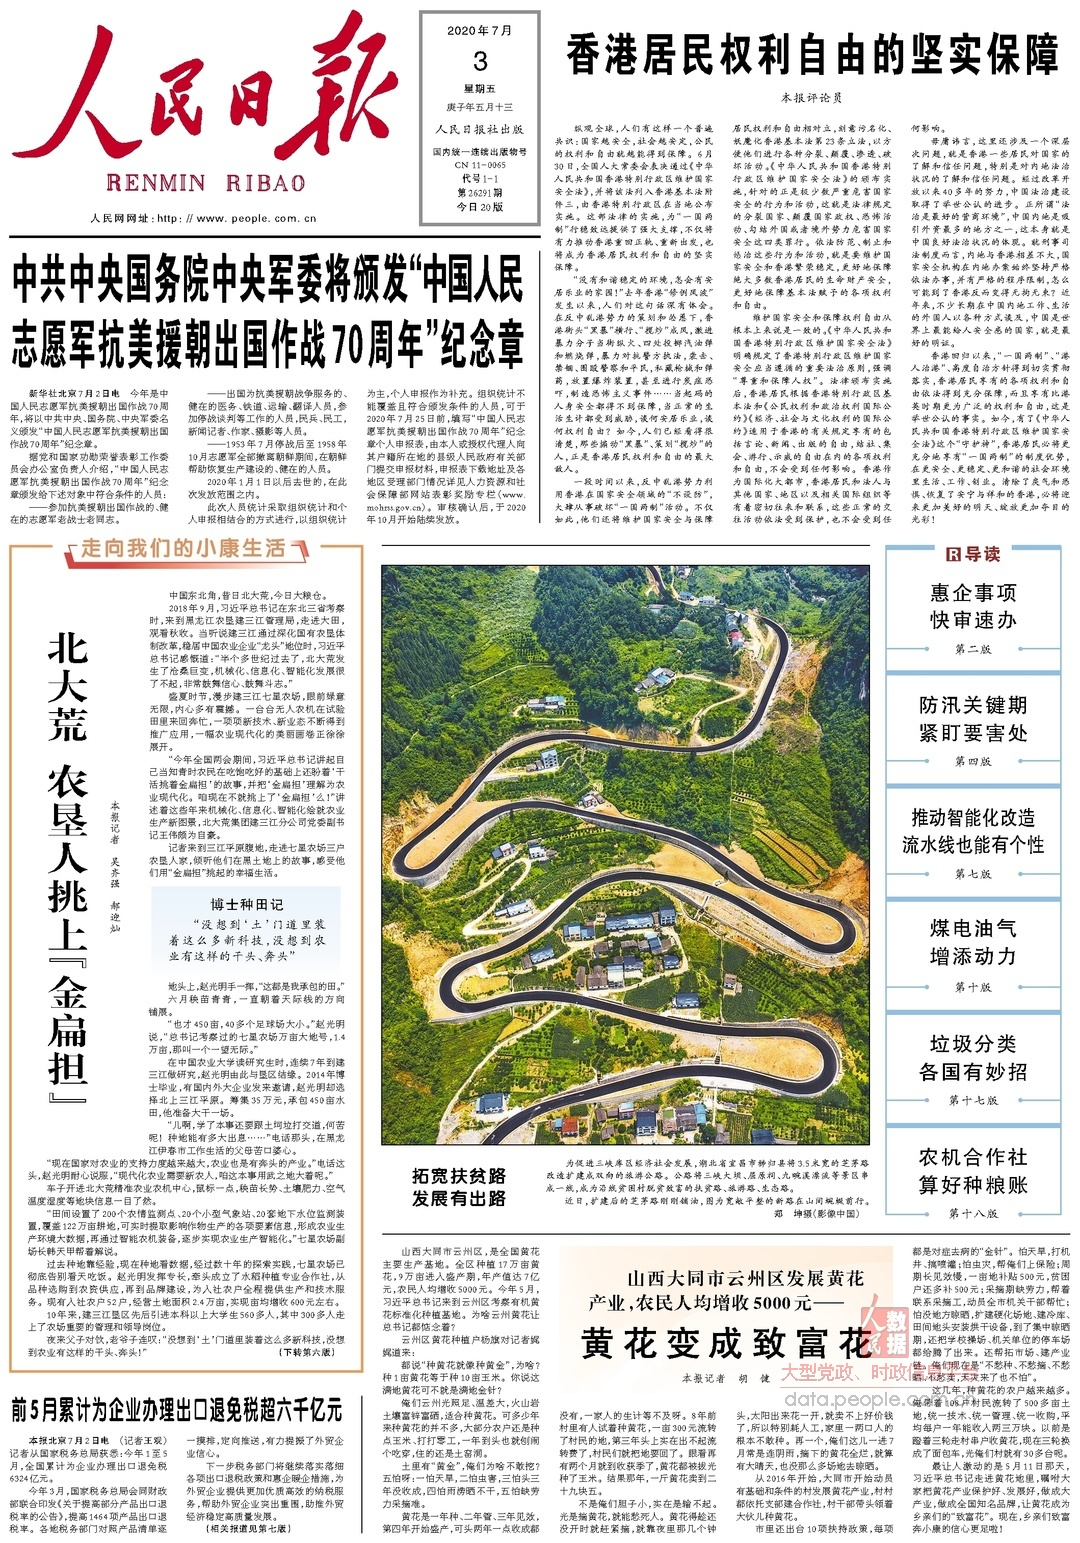pic: (376, 559, 876, 1153)
